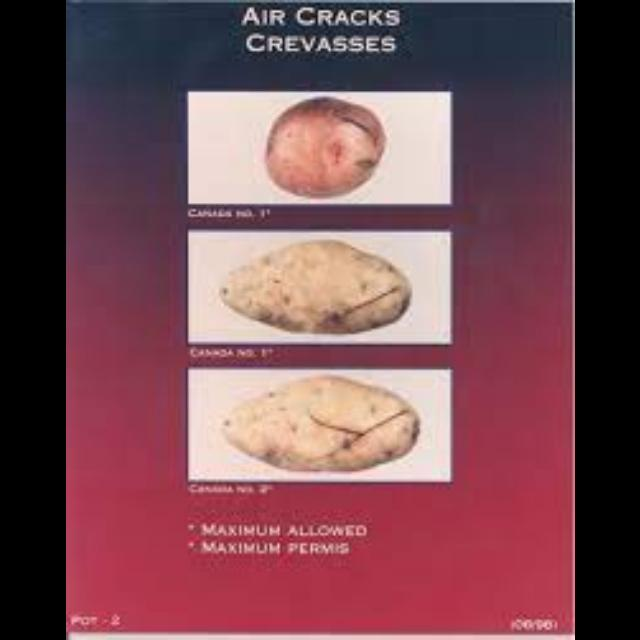Defected potato: (262, 94, 390, 202)
Diseased-fungal potato: (206, 234, 416, 336), (214, 376, 413, 476)
